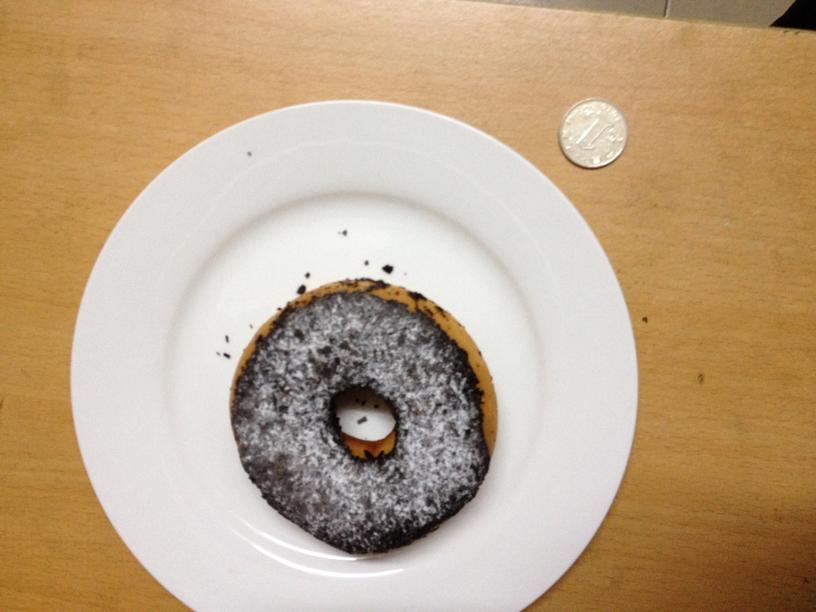coin: (562, 97, 626, 167)
doughnut: (227, 278, 496, 552)
